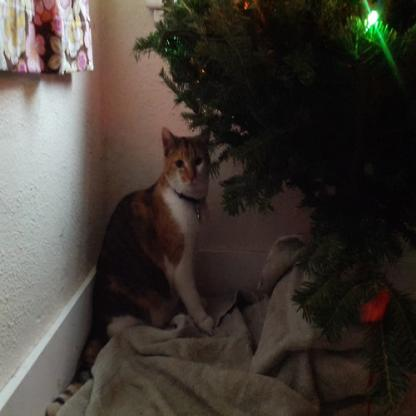Target: (89, 121, 218, 339)
